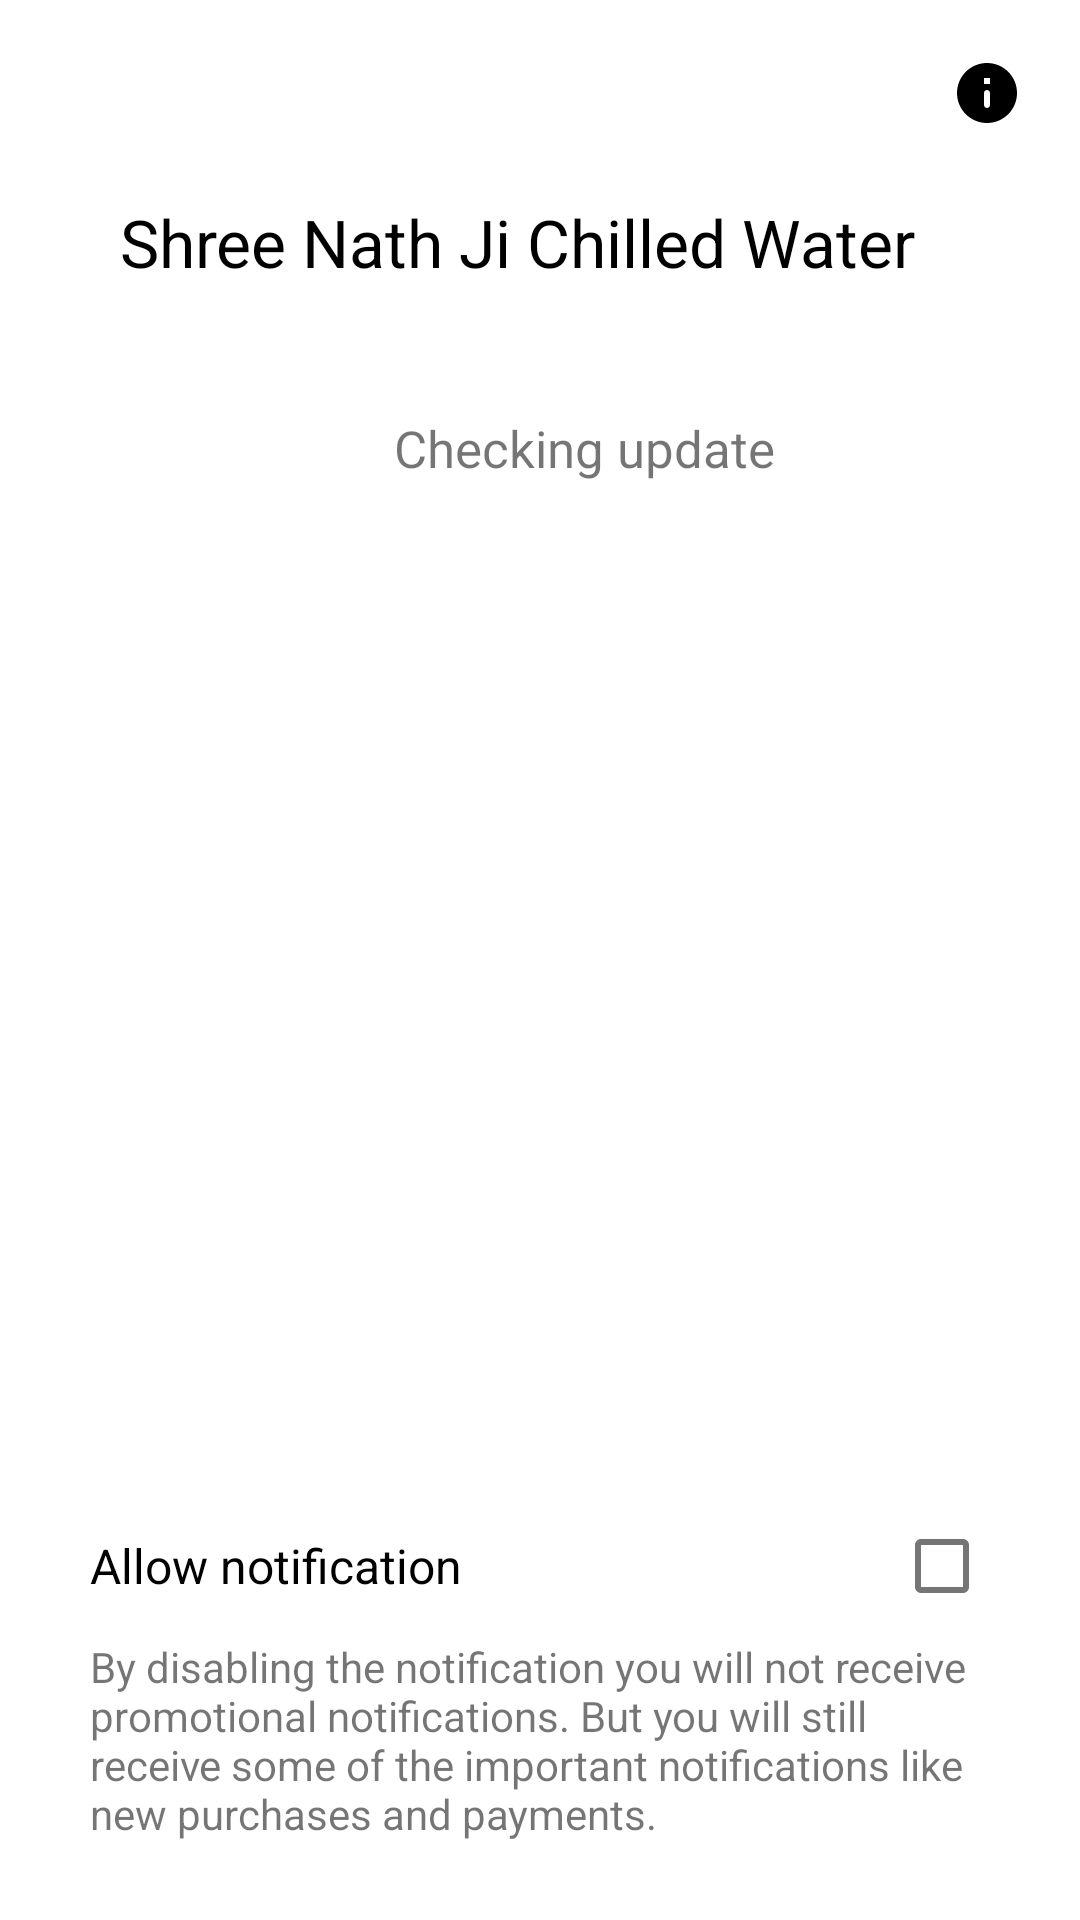

Icon bounding boxes for this 1080×1920 phone screenshot, format (x1, y1, x2, y2):
info: (957, 63, 1017, 123)
